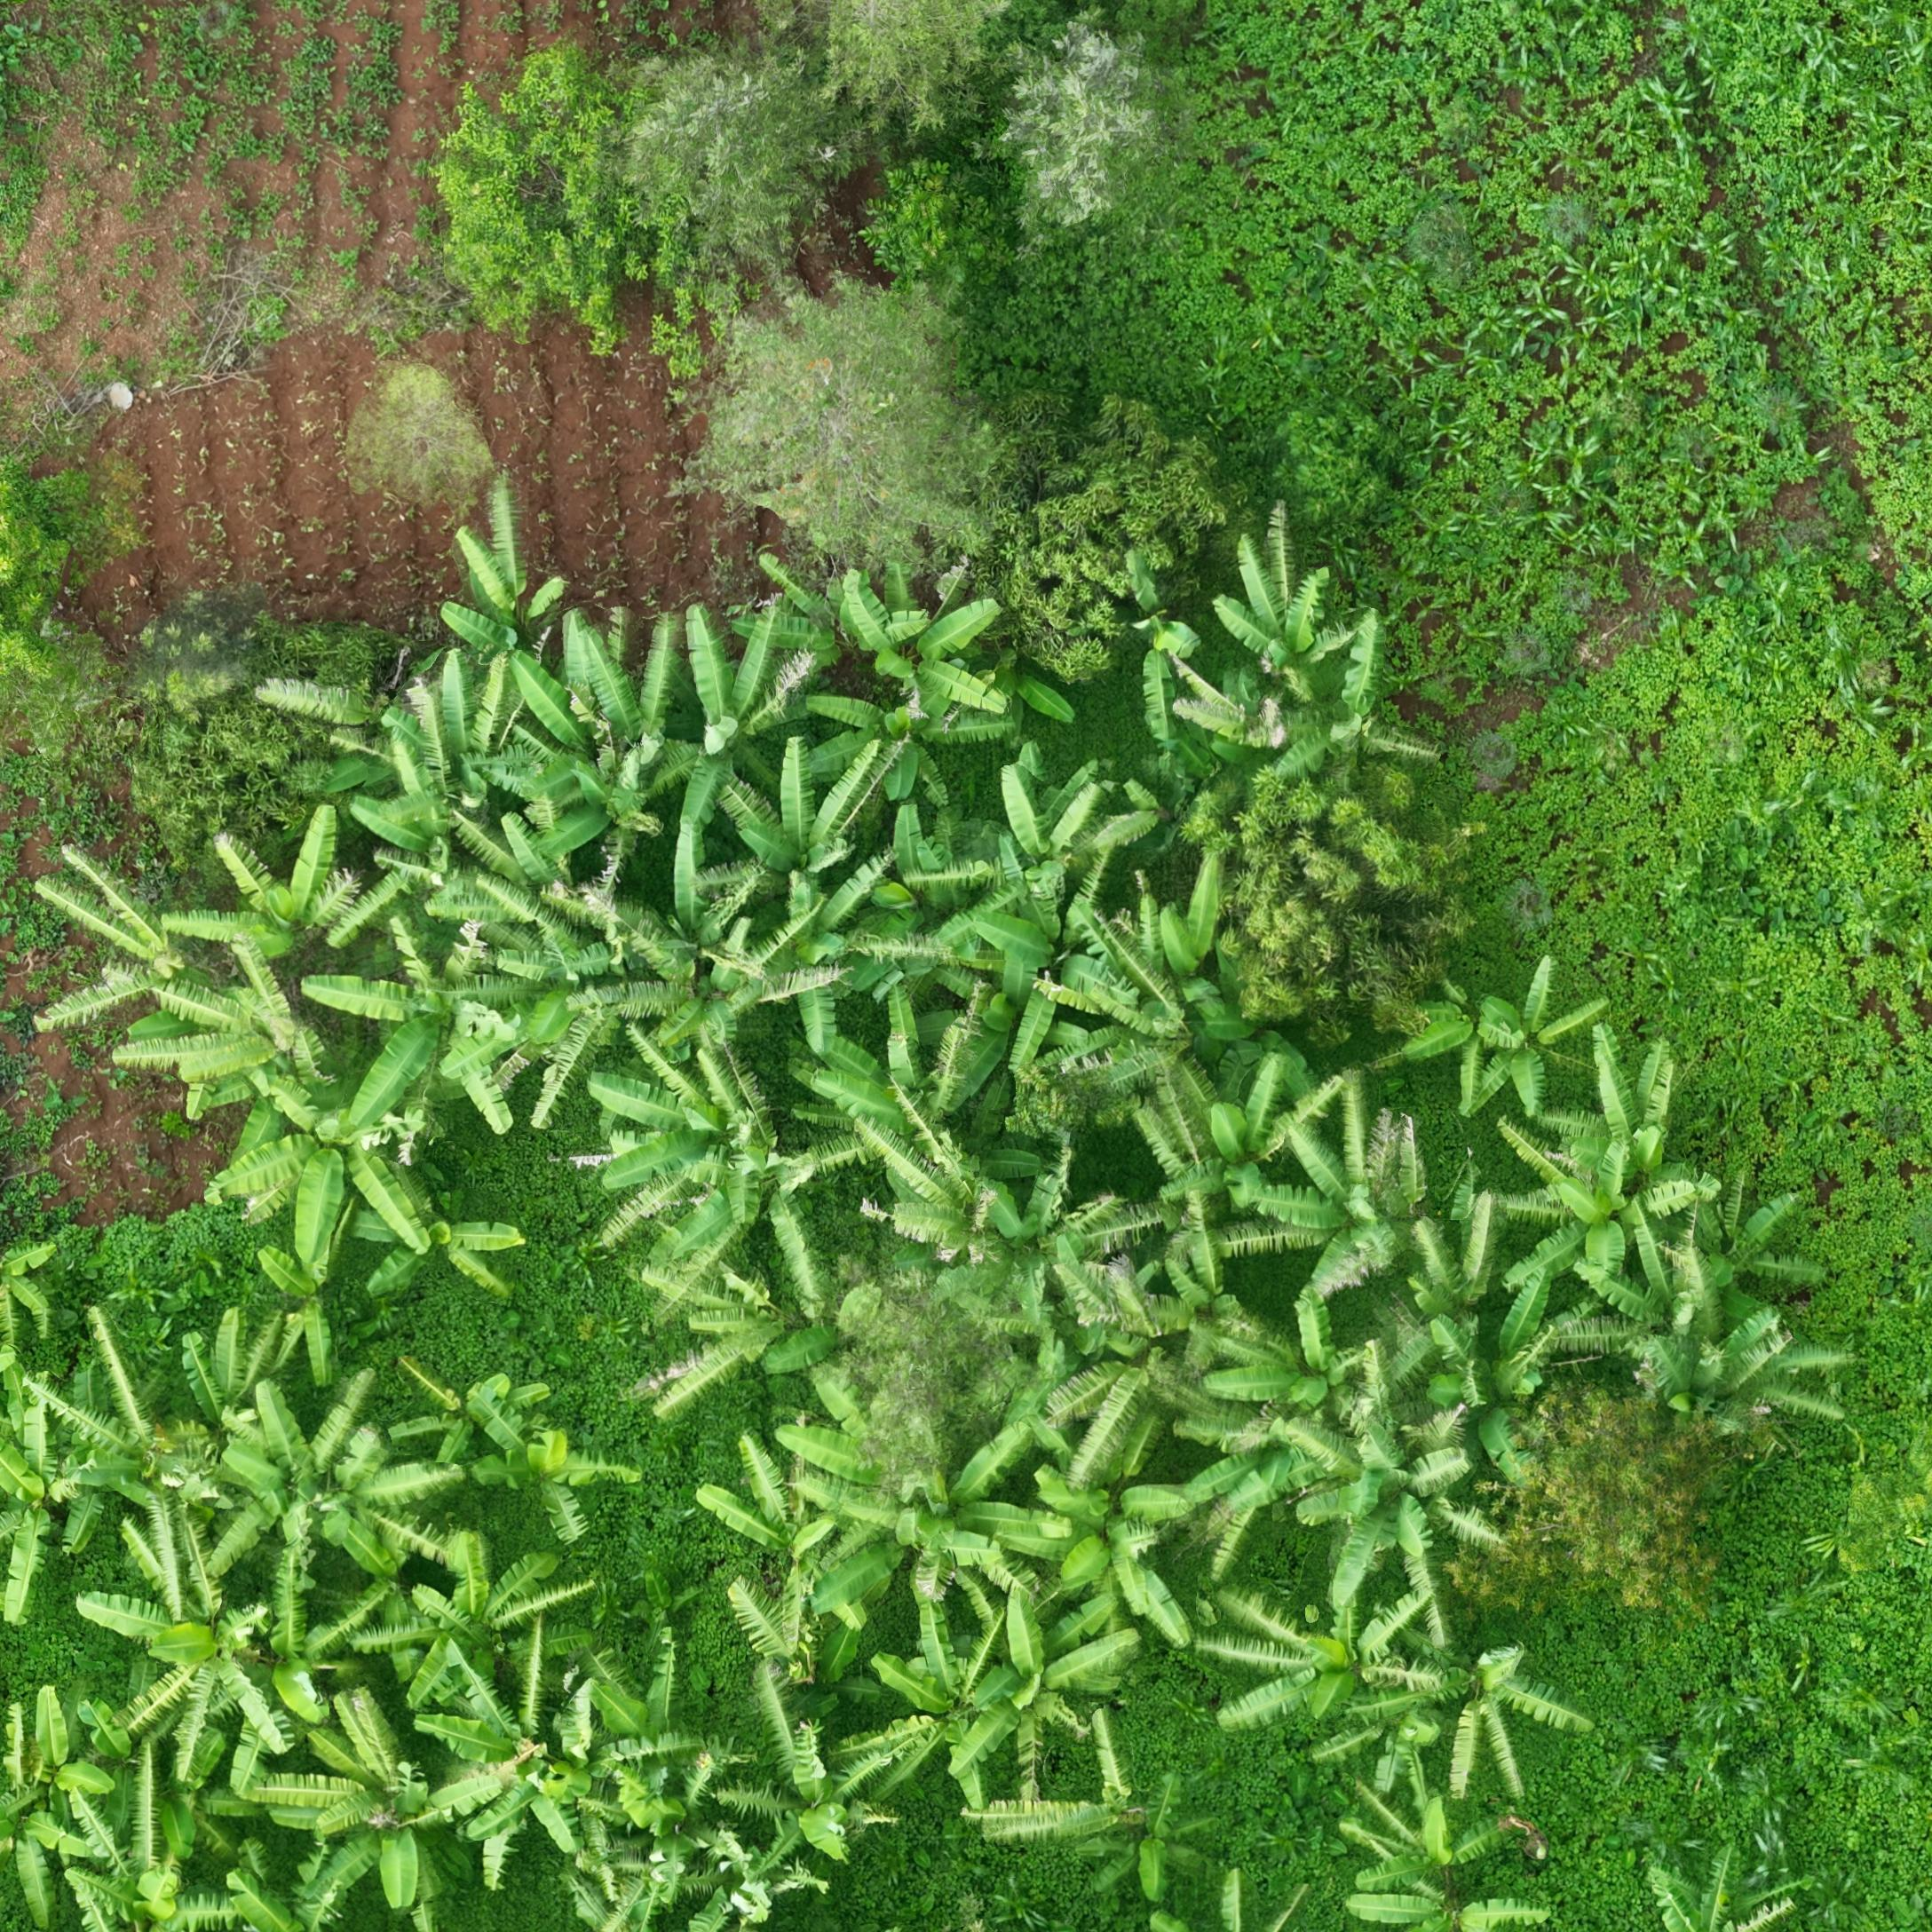Banana: (612, 1077, 865, 1350), (591, 883, 1024, 1024), (727, 1488, 1079, 1660), (1081, 1279, 1302, 1516), (1323, 1449, 1552, 1667), (221, 1099, 455, 1311), (303, 989, 552, 1185), (232, 1442, 469, 1633), (899, 1691, 1139, 1874), (817, 1023, 1060, 1187), (653, 662, 817, 899), (541, 1753, 759, 1932), (294, 1773, 524, 1932), (1077, 1491, 1238, 1716), (28, 863, 203, 1065), (120, 1647, 304, 1835), (853, 584, 1067, 745), (179, 830, 370, 1008), (377, 679, 554, 867), (1555, 1173, 1776, 1315), (78, 1403, 207, 1638), (5, 1288, 73, 1702), (1265, 538, 1422, 709), (375, 874, 616, 984), (1178, 1100, 1350, 1249), (1063, 980, 1258, 1111), (1021, 794, 1161, 971), (1325, 1161, 1481, 1315), (488, 1440, 633, 1596), (9, 1752, 122, 1932), (1509, 1016, 1649, 1157), (451, 527, 580, 671), (1391, 1844, 1589, 1932)
